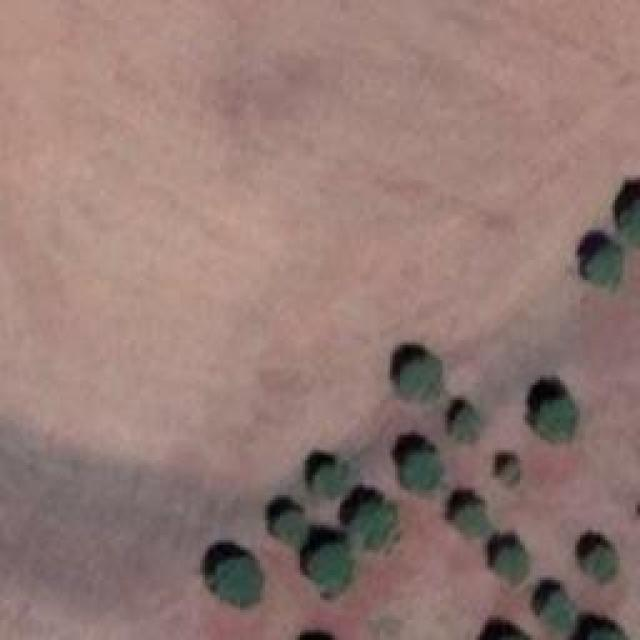Tree: (208, 553, 263, 606), (310, 538, 355, 593), (398, 355, 443, 405), (353, 500, 396, 545), (538, 395, 573, 443), (405, 450, 443, 493), (588, 242, 621, 290), (275, 505, 310, 550), (490, 540, 528, 580), (452, 503, 490, 538), (540, 593, 570, 633), (588, 543, 618, 583), (308, 465, 343, 498), (455, 405, 483, 440), (500, 458, 520, 483)
